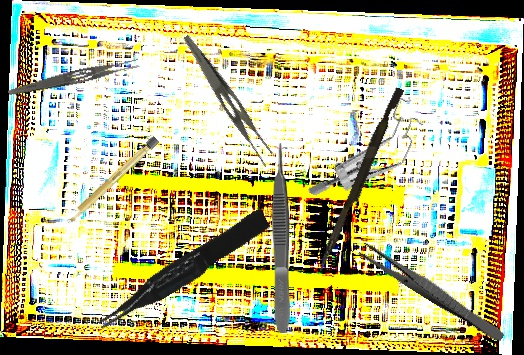Dressing Forceps: (356, 240, 509, 344), (169, 33, 283, 170), (7, 55, 141, 102)
Pusher: (316, 85, 405, 275)
Scalpel Handle: (64, 135, 160, 226)
Speculum: (305, 73, 434, 226)
Tissue Forceps: (89, 208, 275, 333), (272, 143, 291, 333)
